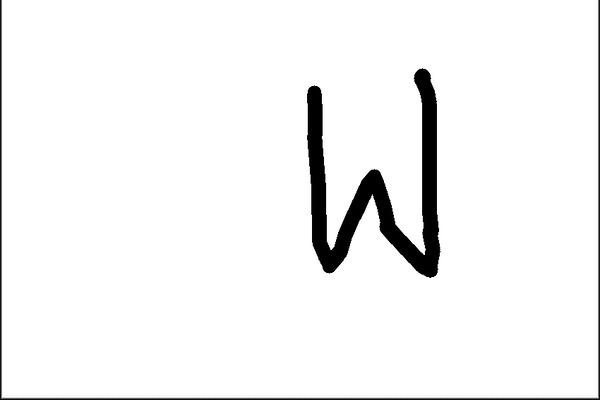w: (294, 53, 454, 300)
